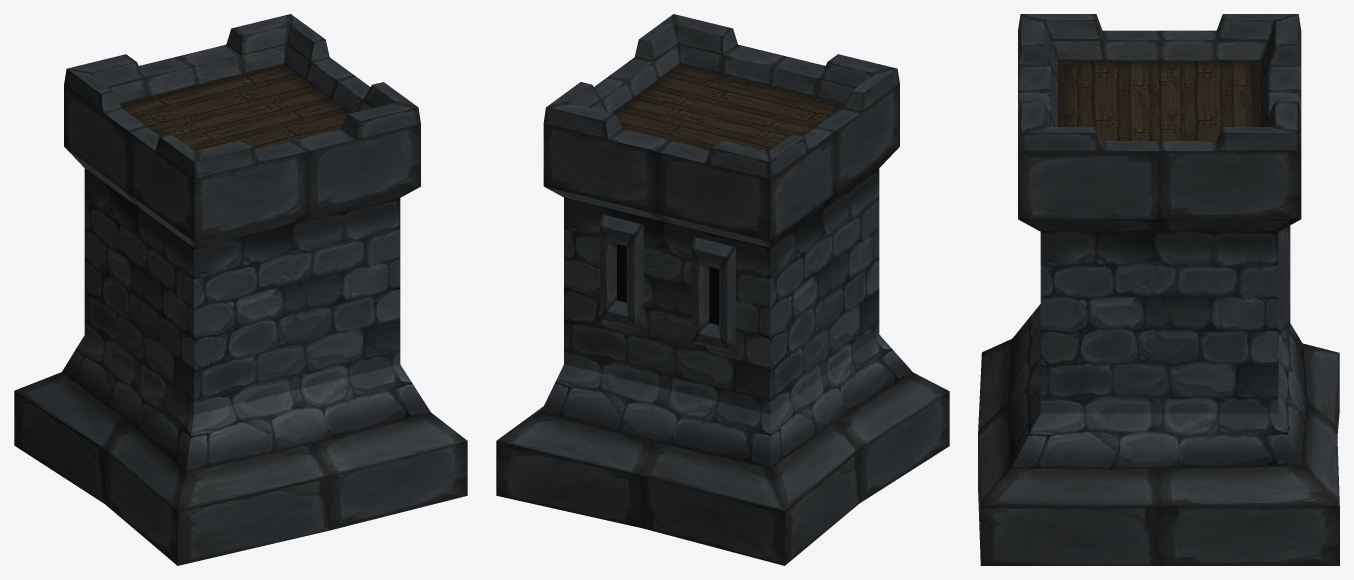
Rendered from cp_tower2_B 1.FBX.
3 renders of one model, left to right at view 1: azimuth 30°, elevation 25°; view 2: azimuth 150°, elevation 25°; view 3: azimuth 270°, elevation 25°, orthographic. The views are drawn at different scales.
Visible parts, largest first — view 1: tower2_B; view 2: tower2_B; view 3: tower2_B.
Part boxes in pixels (x1,y1,x2,y2): tower2_B: (14,14,467,565); tower2_B: (496,14,949,565); tower2_B: (978,14,1339,565).
Bounding box in the file's own units: 41.87 × 52.83 × 41.59.
